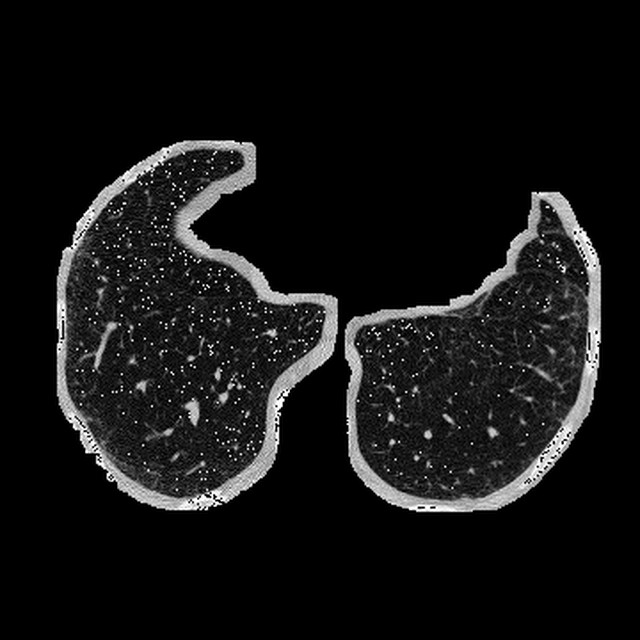PN: (558, 265, 565, 272)
